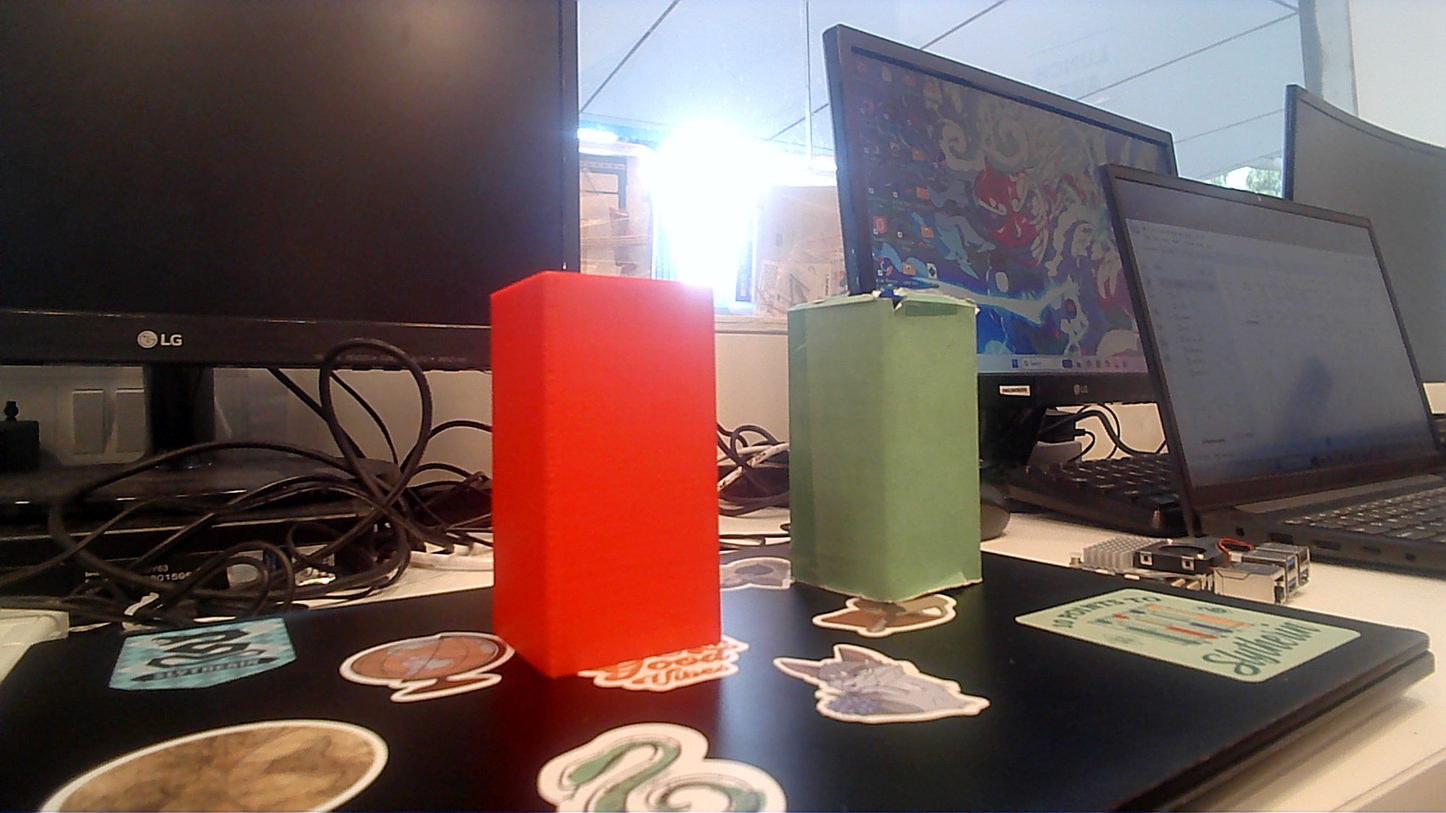red: (490, 268, 718, 671)
